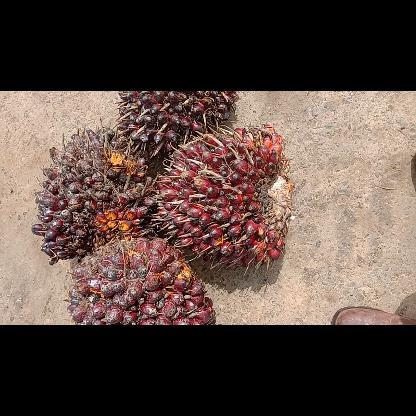Kurang masak: (148, 119, 296, 275), (28, 124, 156, 268)
TBS mentah: (64, 236, 220, 324), (111, 92, 239, 162)
